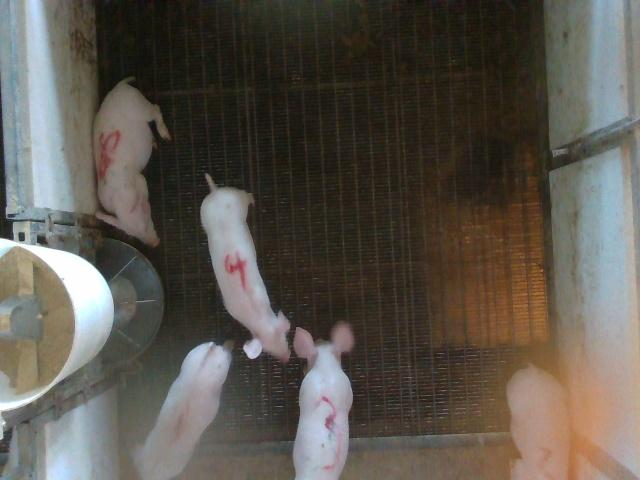pig-1: (134, 342, 231, 479)
pig-3: (292, 321, 355, 478)
pig-4: (200, 174, 290, 362)
pig-5: (94, 79, 170, 246)
